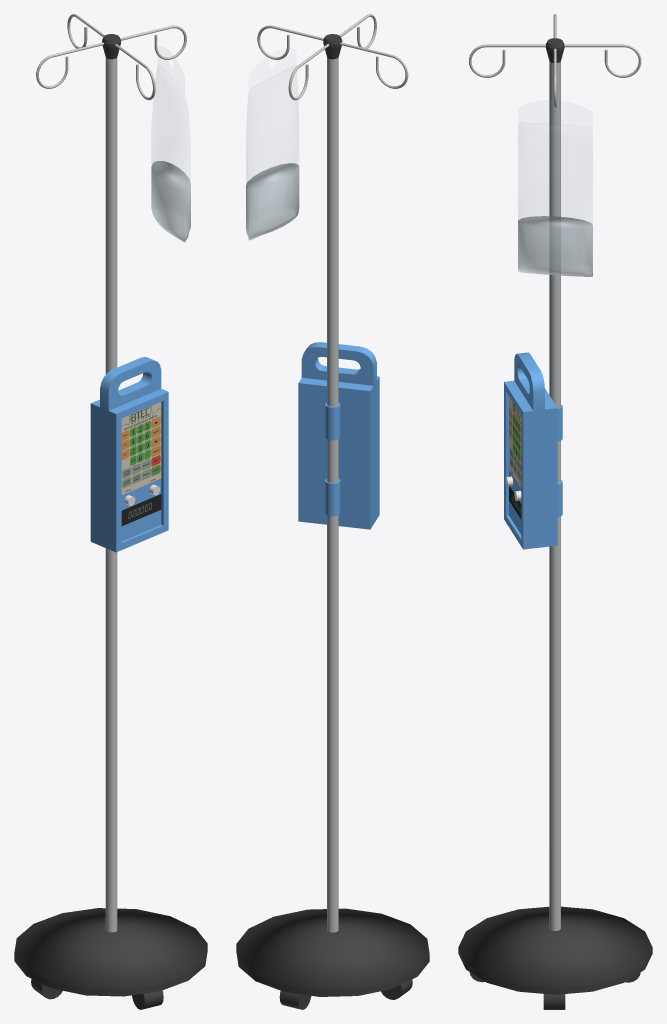
Rendered from iv_stand.glb.
3 views of the same model, side by side, from view 1: azimuth 30°, elevation 25°; view 2: azimuth 150°, elevation 25°; view 3: azimuth 270°, elevation 25° (orthographic).
Visible parts, largest first — view 1: iv_stand; view 2: iv_stand; view 3: iv_stand.
Boxes of the visible parts, x1=… form: iv_stand: x1=14, y1=14, x2=207, y2=1009; iv_stand: x1=236, y1=14, x2=429, y2=1009; iv_stand: x1=458, y1=14, x2=652, y2=1009.
Size of the model in its own units: 0.3655 by 1.95 by 0.3655.
7 materials, 1 textured.
